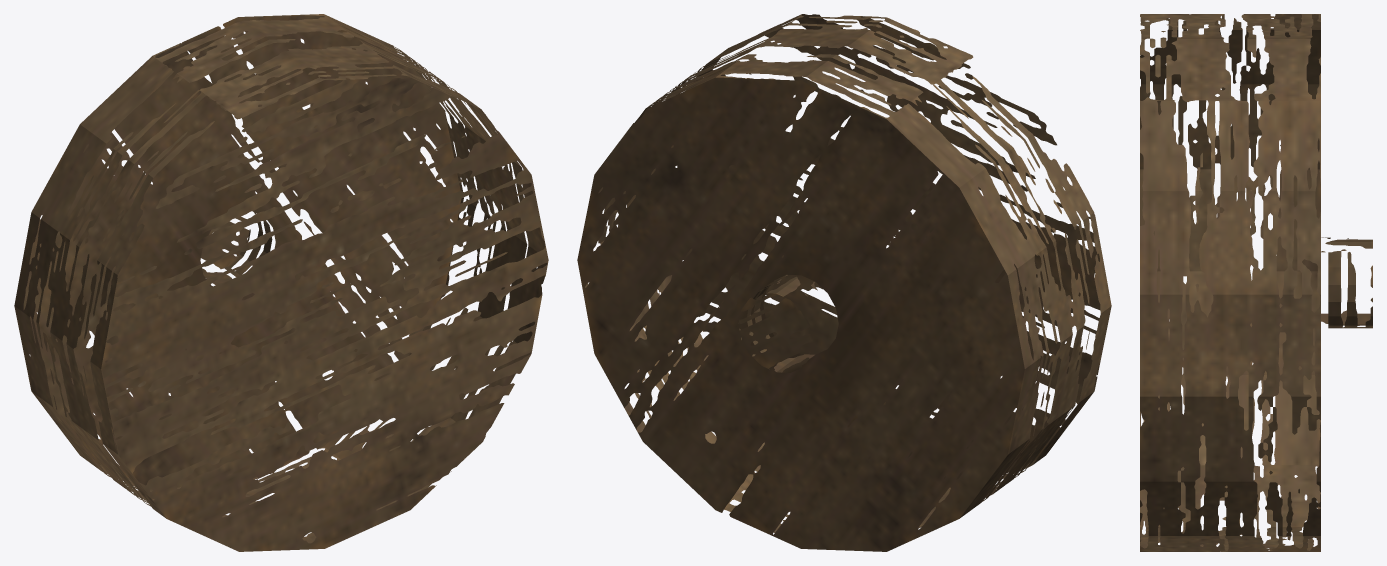
File: Wheel4.obj
3 views of the same model, side by side, from view 1: azimuth 30°, elevation 25°; view 2: azimuth 150°, elevation 25°; view 3: azimuth 270°, elevation 25° (orthographic). The views are drawn at different scales.
Visible parts, largest first — view 1: Wheel4; view 2: Wheel4; view 3: Wheel4.
Boxes of the visible parts, x1=… form: Wheel4: x1=14, y1=14, x2=548, y2=551; Wheel4: x1=577, y1=14, x2=1111, y2=551; Wheel4: x1=1140, y1=14, x2=1372, y2=551.
Bounding box in the file's own units: 3.45 × 3.45 × 1.49.
